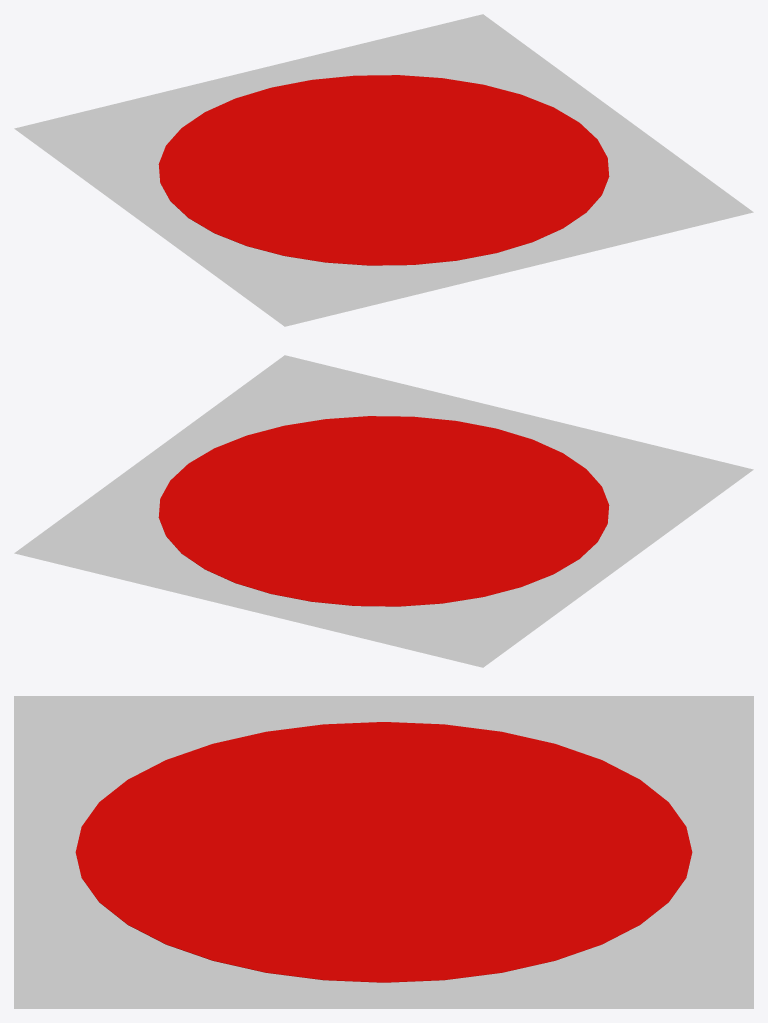
File: hotspot.dae
3 views of the same model, one above another, from view 1: azimuth 30°, elevation 25°; view 2: azimuth 150°, elevation 25°; view 3: azimuth 270°, elevation 25° (orthographic). The views are drawn at different scales.
Parts seen in each view (by area): view 1: Cylinder; view 2: Cylinder; view 3: Cylinder.
Part boxes in pixels (bbox=[...]): Cylinder: bbox=[14, 14, 753, 326]; Cylinder: bbox=[14, 355, 753, 667]; Cylinder: bbox=[14, 696, 753, 1008].
Size of the model in its own units: 1.2 by 1.2 by 0.001.
